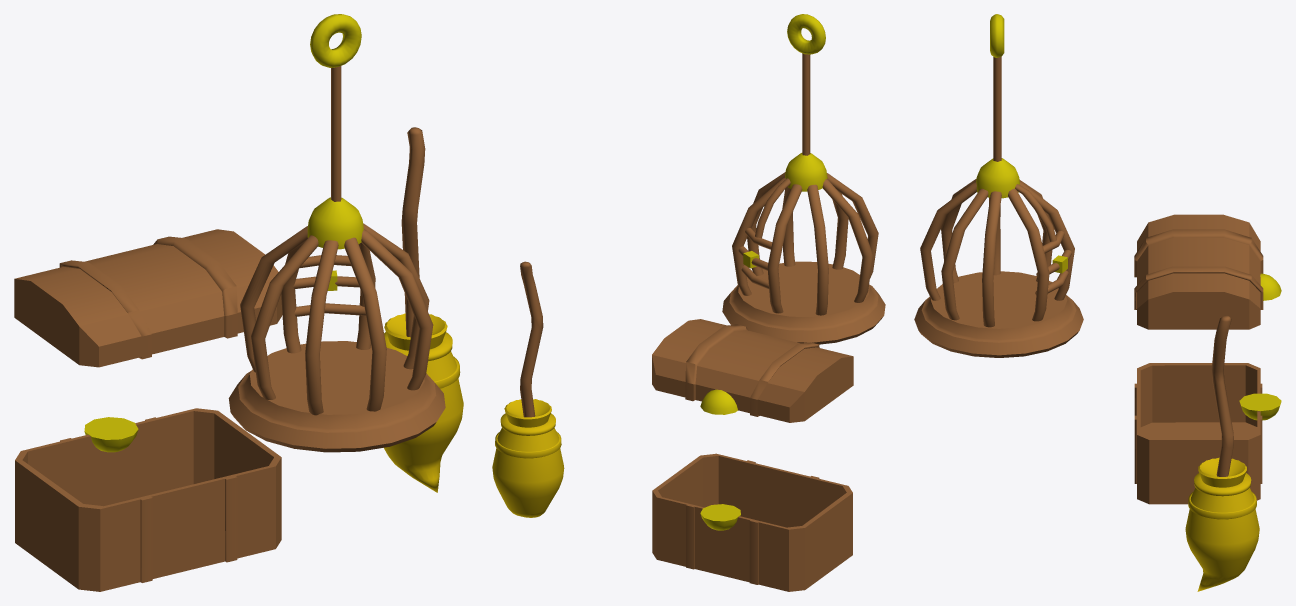
The model's file is bedroom_ccb.fbx.
3 renders of one model, left to right at view 1: azimuth 30°, elevation 25°; view 2: azimuth 150°, elevation 25°; view 3: azimuth 270°, elevation 25°, orthographic. The views are drawn at different scales.
Parts seen in each view (by area): view 1: desk25, desk26, pCylinder36, pCylinder30, pCylinder49, pCylinder50, pCylinder47, pCylinder48, pCylinder31, pSphere4, pTorus2, pCylinder46 (+6 smaller); view 2: desk25, desk26, pCylinder36, pCylinder30, pCylinder31, pCylinder46, pCylinder41, pCylinder47, pSphere4, pTorus2, pCylinder52, pCylinder49 (+7 smaller); view 3: desk25, desk26, pCylinder36, pCylinder30, pCylinder31, pCylinder51, pCylinder52, pCylinder48, pCylinder50, pSphere4, pCylinder41, pCylinder45 (+4 smaller).
Part boxes in pixels (x1,y1,x2,y2): desk25: (15,408,281,591); desk26: (14,229,282,367); pCylinder36: (228,341,445,452); pCylinder30: (384,313,463,492); pCylinder49: (305,240,338,415); pCylinder50: (344,237,386,411); pCylinder47: (251,235,318,399); pCylinder48: (361,229,433,390); pCylinder31: (401,127,425,336); pSphere4: (307,197,363,249); pTorus2: (310,14,361,67); pCylinder46: (240,226,307,372); desk25: (652,453,852,591); desk26: (652,319,853,422); pCylinder36: (722,261,885,344); pCylinder30: (492,399,564,517); pCylinder31: (520,261,543,417); pCylinder46: (807,184,828,315); pCylinder41: (767,184,802,313); pCylinder47: (822,179,872,302); pSphere4: (785,153,827,191); pTorus2: (787,14,825,54); pCylinder52: (732,177,785,295); pCylinder49: (827,173,878,278); desk25: (1134,363,1262,504); desk26: (1134,214,1263,329); pCylinder36: (914,271,1083,357); pCylinder30: (1185,457,1259,591); pCylinder31: (1211,315,1233,476); pCylinder51: (982,191,1001,327); pCylinder52: (1008,188,1049,321); pCylinder48: (941,188,988,320); pCylinder50: (920,182,976,300); pSphere4: (976,158,1019,198); pCylinder41: (1019,181,1074,300); pCylinder45: (993,56,1001,161).
Bounding box in the file's own units: 61.38 × 86.59 × 59.
